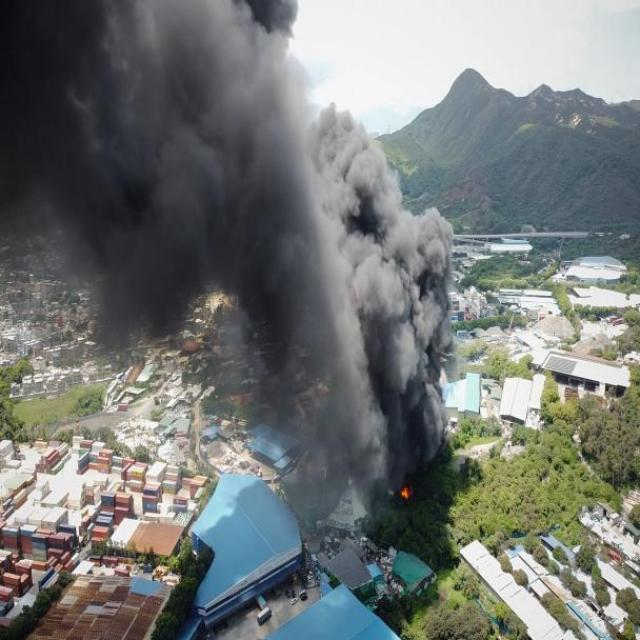Fire: (322, 436, 494, 535)
Smoke: (1, 9, 572, 425)
